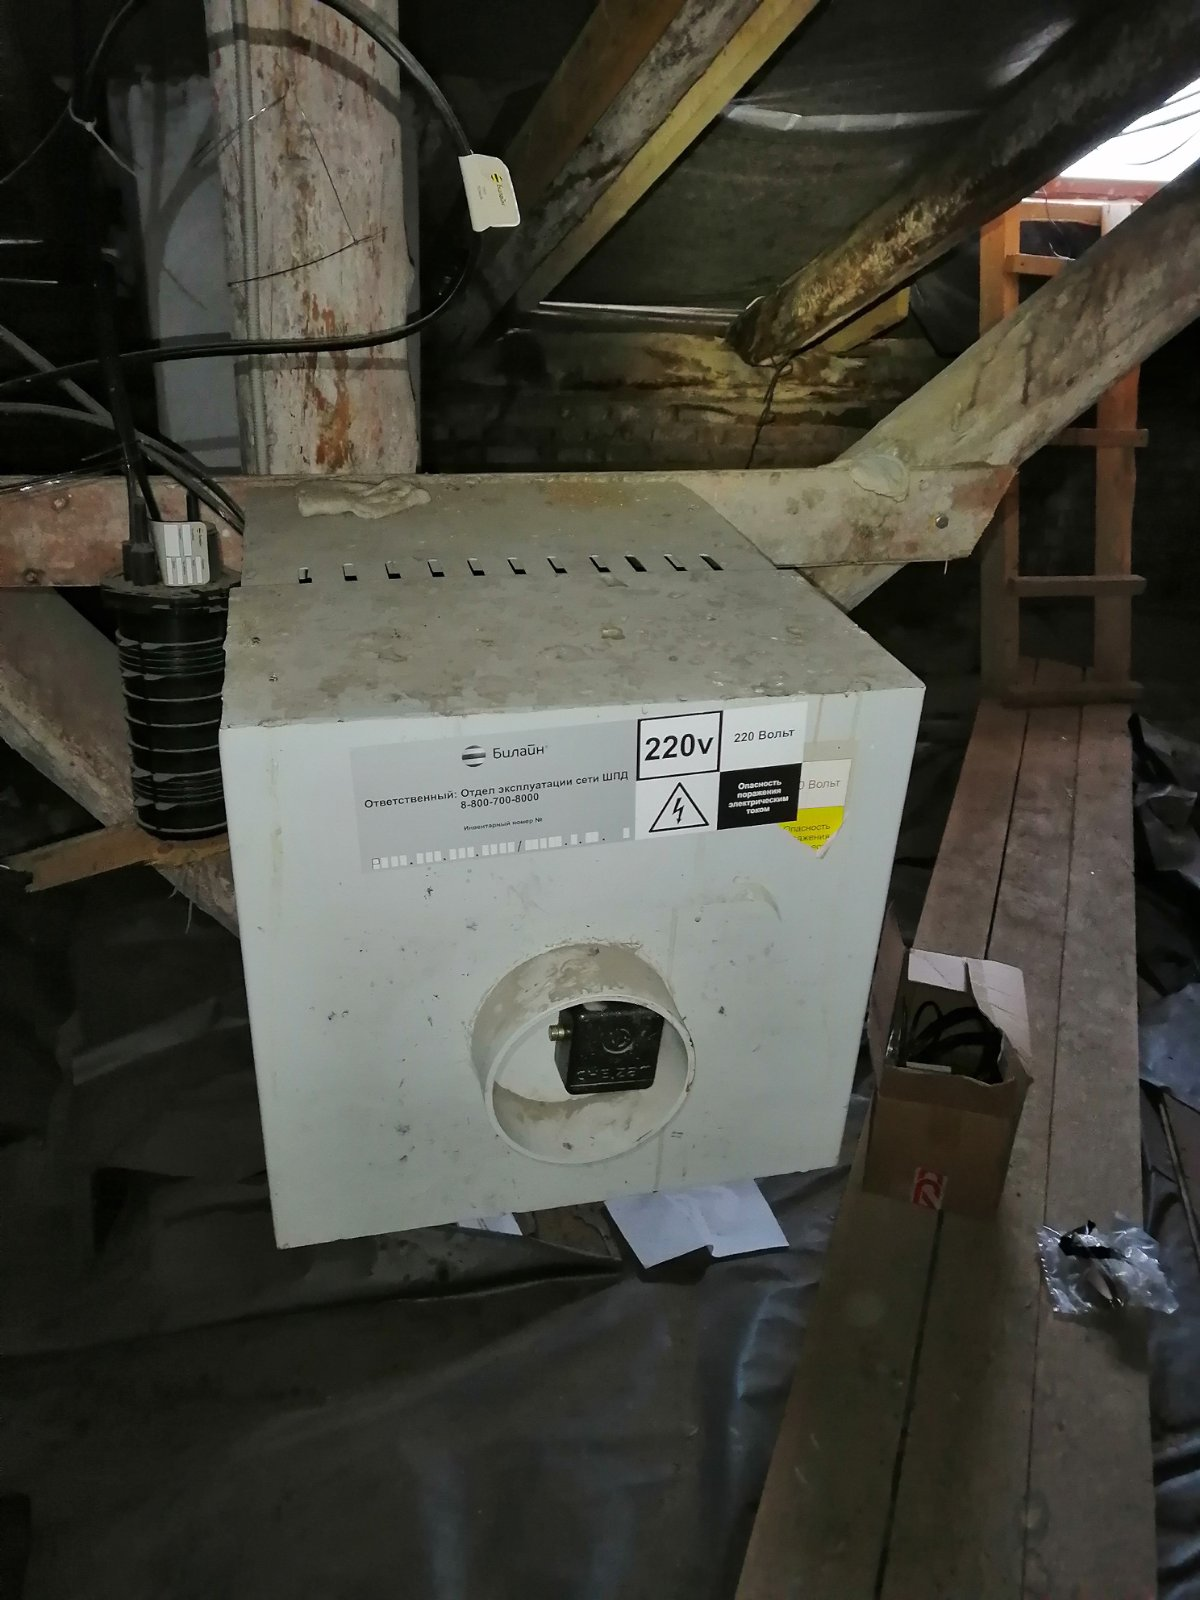shta-9: (214, 454, 939, 1262)
